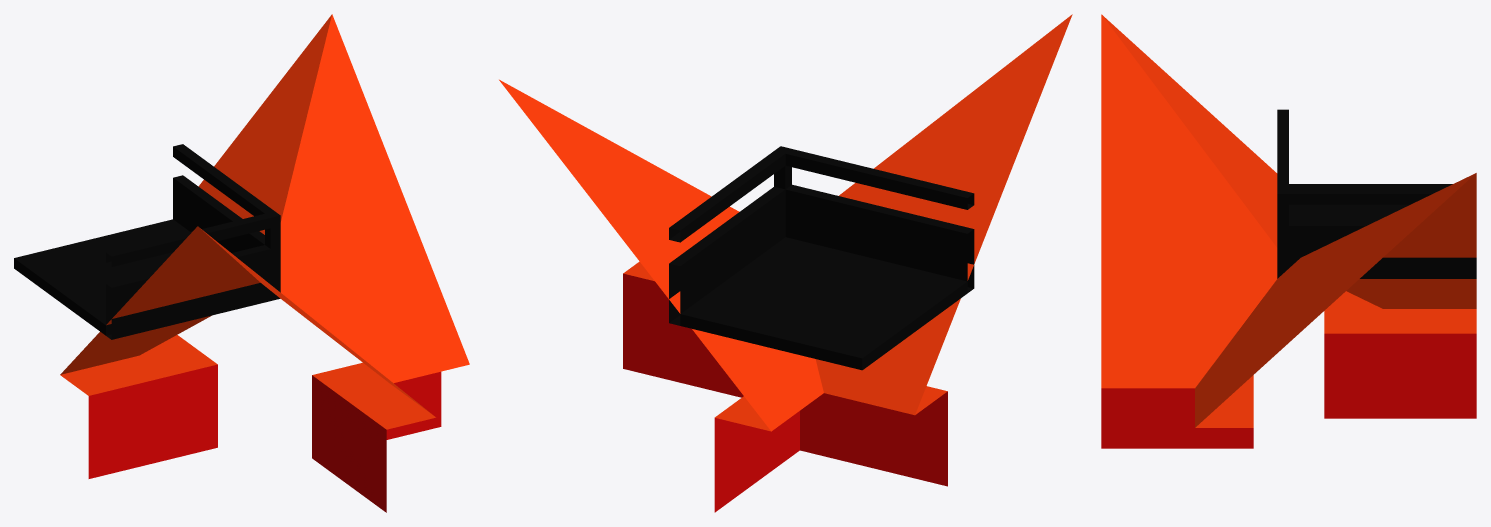
3 views of the same model, side by side, from view 1: azimuth 30°, elevation 25°; view 2: azimuth 150°, elevation 25°; view 3: azimuth 270°, elevation 25° (orthographic). The views are drawn at different scales.
Parts seen in each view (by area): view 1: None_S_E_E_E_P_S_E_E_None; view 2: None_S_E_E_E_P_S_E_E_None; view 3: None_S_E_E_E_P_S_E_E_None.
Boxes of the visible parts, x1,y1,x2,y2 form: None_S_E_E_E_P_S_E_E_None: (14, 14, 469, 512); None_S_E_E_E_P_S_E_E_None: (499, 14, 1072, 512); None_S_E_E_E_P_S_E_E_None: (1101, 14, 1476, 448).
Bounding box in the file's own units: 100 × 100 × 100.
